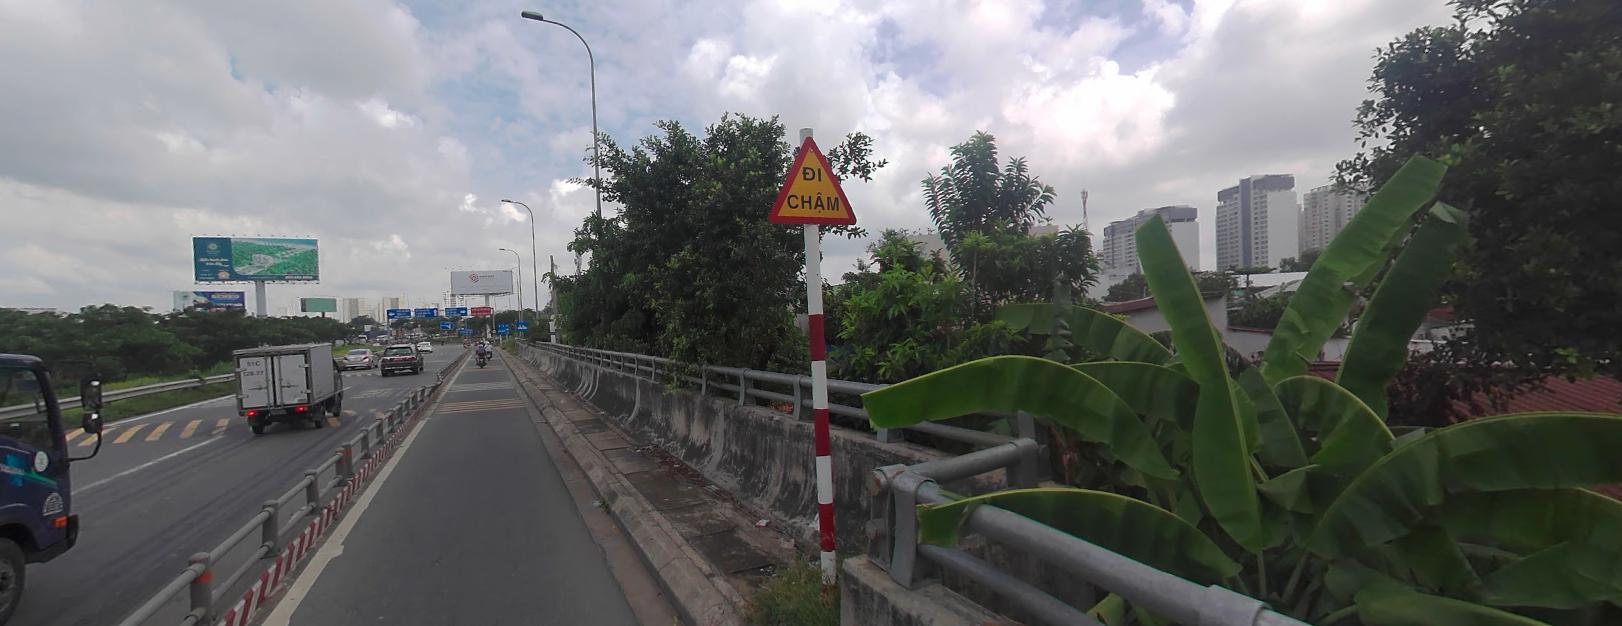Nguy hiem: (768, 117, 863, 237)
